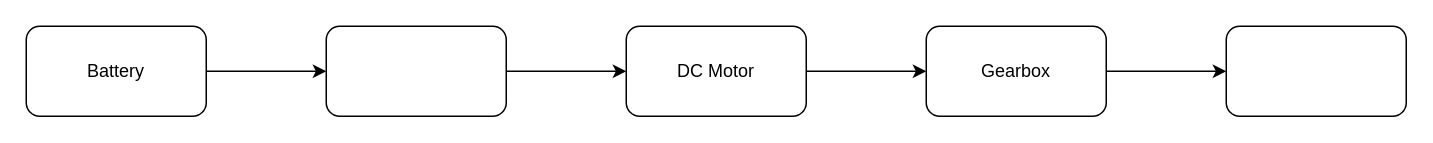
Some shapes in this 1433 by 143 pixel diagram are drawn without their labels. Here are the shapes that lost their labels. From the top down, the box of each, then its label:
(325, 25, 506, 116): Microcontroller
(1225, 25, 1406, 116): Brush
